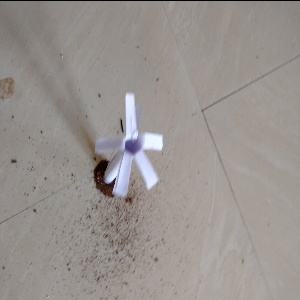weed: (91, 95, 171, 194)
